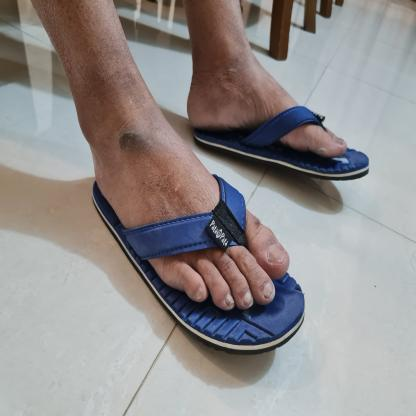leg: (26, 0, 310, 363), (182, 0, 374, 188)
